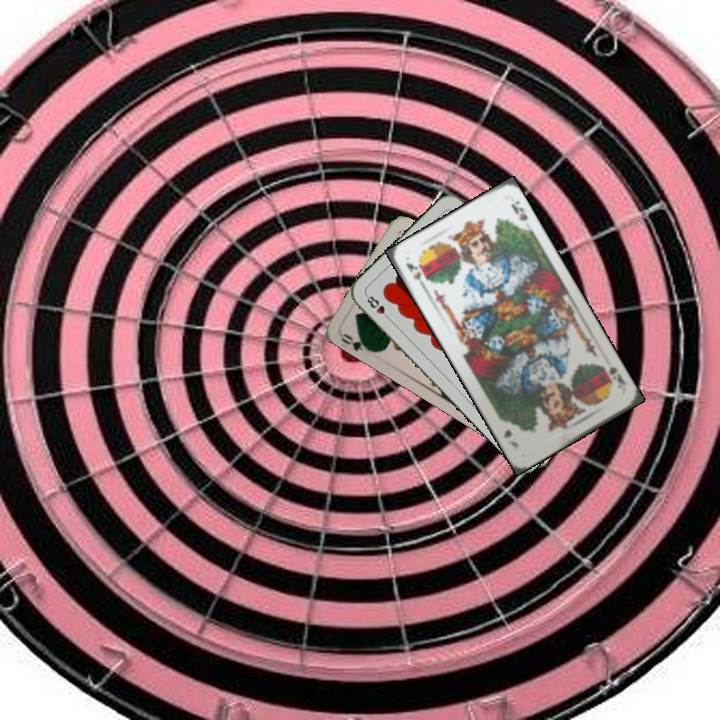GO: (336, 329, 376, 354)
H8: (362, 291, 394, 323)
SK: (402, 258, 430, 292), (605, 362, 629, 391)
